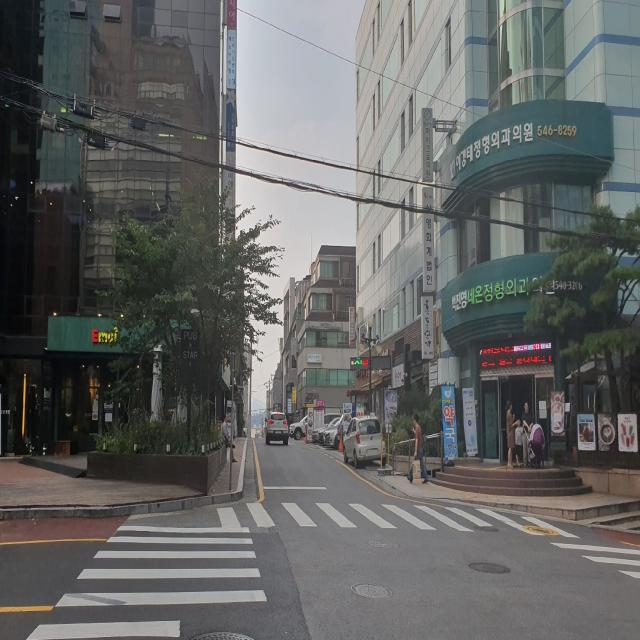횡단보도: (27, 495, 640, 640)
